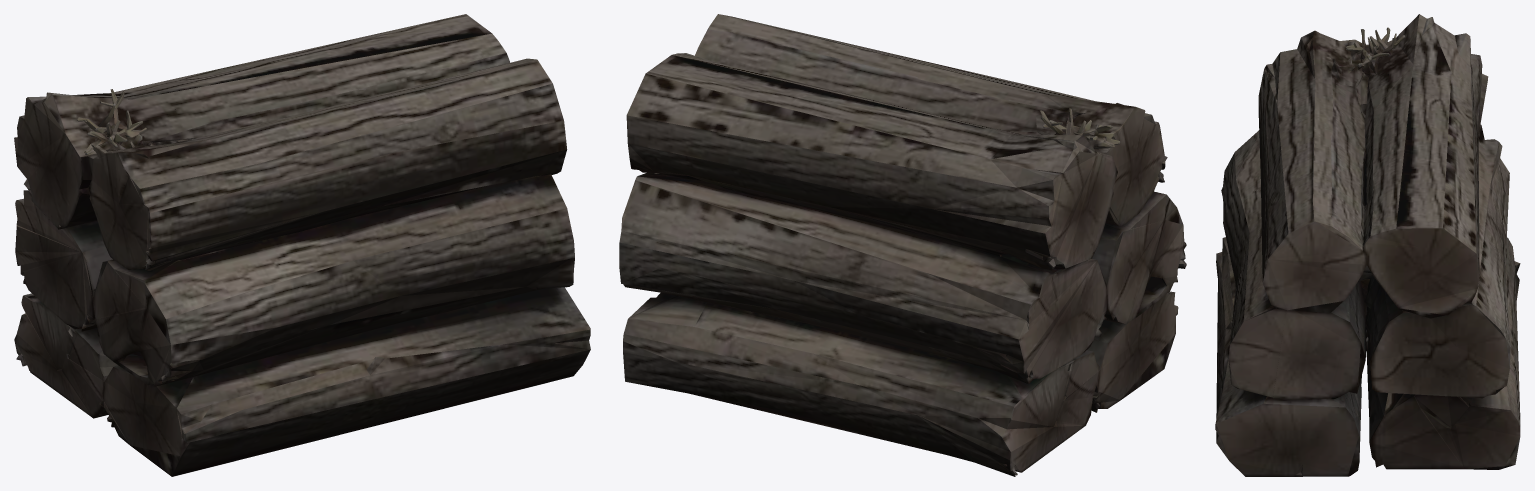
The model's file is char_logs_01.glb.
3 renders of one model, left to right at view 1: azimuth 30°, elevation 25°; view 2: azimuth 150°, elevation 25°; view 3: azimuth 270°, elevation 25°, orthographic. The views are drawn at different scales.
Parts seen in each view (by area): view 1: geometry_0; view 2: geometry_0; view 3: geometry_0.
Boxes of the visible parts, <box> form: geometry_0: <box>14,14,590,476</box>; geometry_0: <box>619,14,1186,476</box>; geometry_0: <box>1215,14,1520,476</box>.
Bounding box in the file's own units: 0.9981 × 0.6976 × 0.6873.
1 material, 1 textured.
